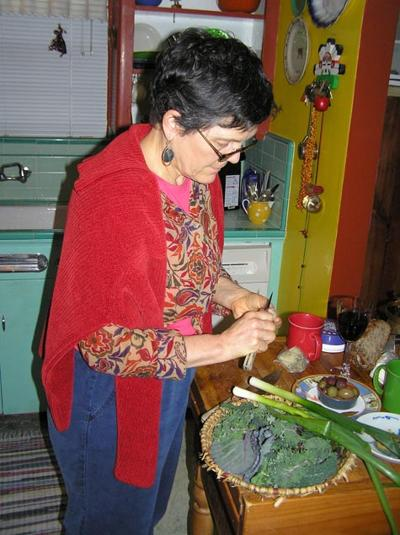person: (42, 29, 281, 535)
